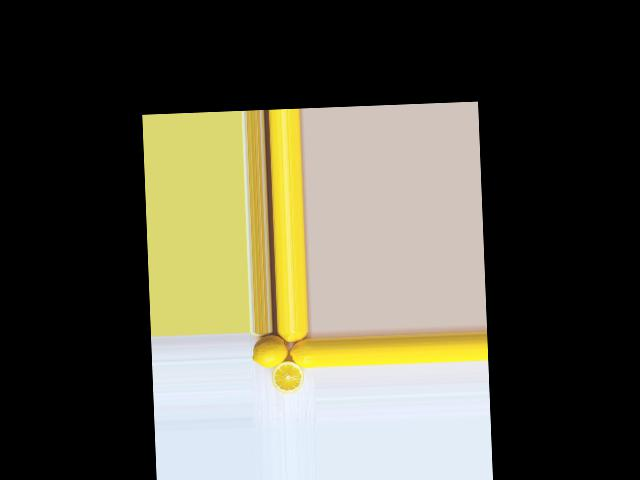lemon: (289, 340, 313, 368)
